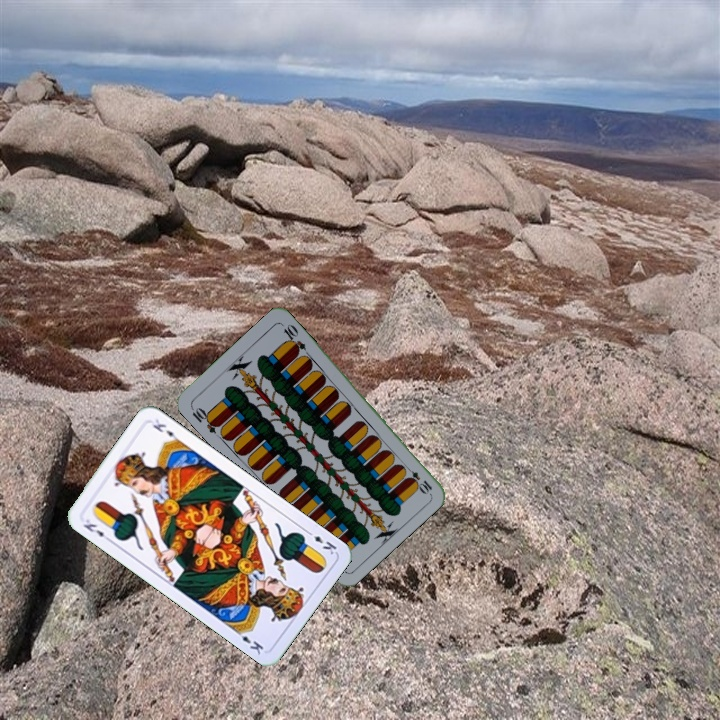E10: (187, 403, 223, 436), (401, 462, 435, 496)
EK: (302, 526, 339, 557), (79, 515, 114, 544)
